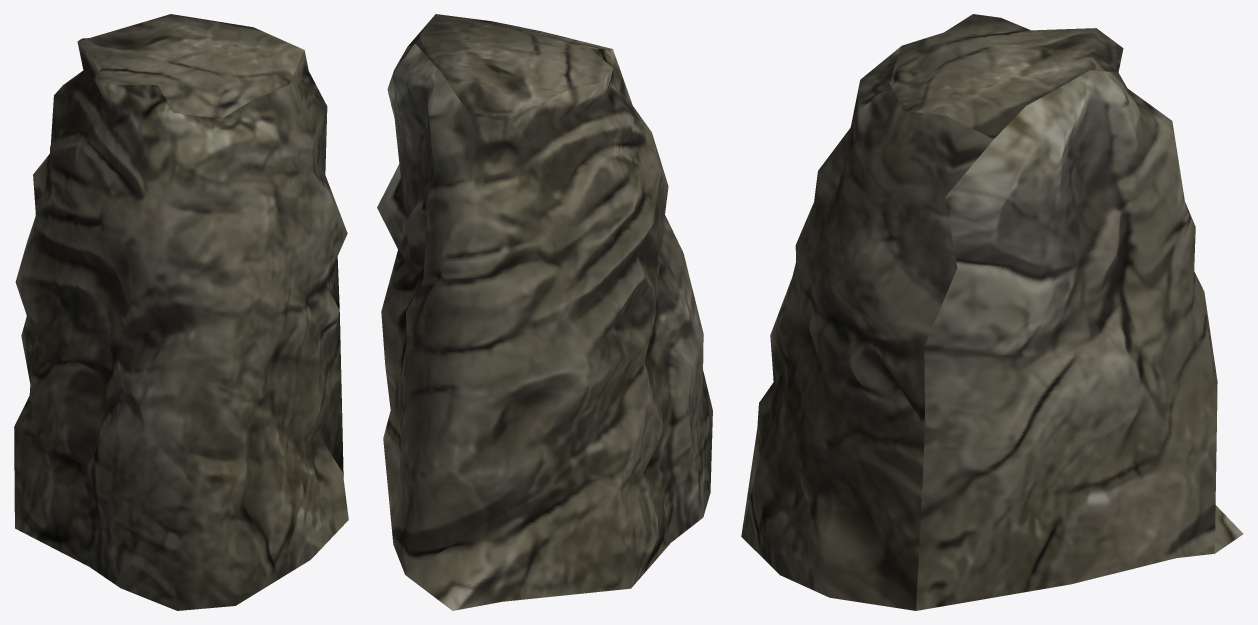
File: MEP_Cliff_14.fbx
3 renders of one model, left to right at view 1: azimuth 30°, elevation 25°; view 2: azimuth 150°, elevation 25°; view 3: azimuth 270°, elevation 25°, orthographic. The views are drawn at different scales.
Visible parts, largest first — view 1: MEP_Desert_Cliff_14; view 2: MEP_Desert_Cliff_14; view 3: MEP_Desert_Cliff_14.
Boxes of the visible parts, bbox=[...] form: MEP_Desert_Cliff_14: bbox=[14, 14, 348, 610]; MEP_Desert_Cliff_14: bbox=[377, 14, 712, 610]; MEP_Desert_Cliff_14: bbox=[741, 14, 1243, 610].
Size of what is drawn, in the model's own units: 109 by 184 by 158.
1 material, 1 textured.
